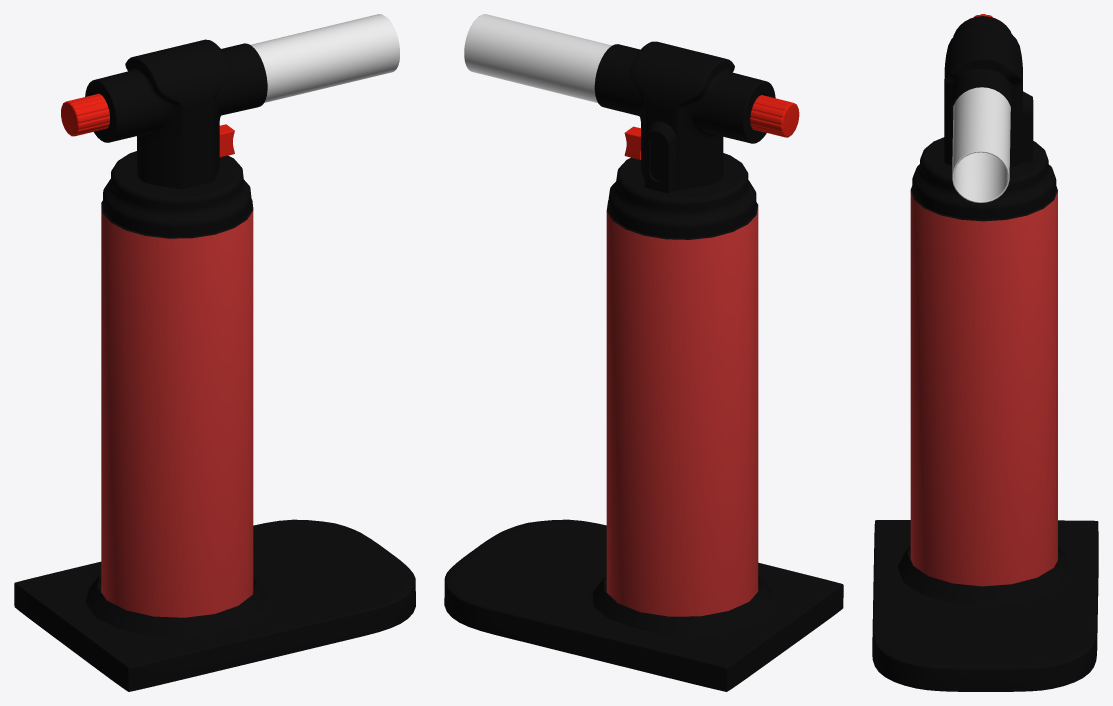
File: Lighter.glb
3 renders of one model, left to right at view 1: azimuth 30°, elevation 25°; view 2: azimuth 150°, elevation 25°; view 3: azimuth 270°, elevation 25°, orthographic. The views are drawn at different scales.
Parts seen in each view (by area): view 1: Torch; view 2: Torch; view 3: Torch.
Boxes of the visible parts, bbox=[...] form: Torch: bbox=[14, 14, 415, 691]; Torch: bbox=[444, 14, 843, 691]; Torch: bbox=[872, 14, 1098, 691].
Size of the model in its own units: 1.09 by 1.88 by 0.6976.
